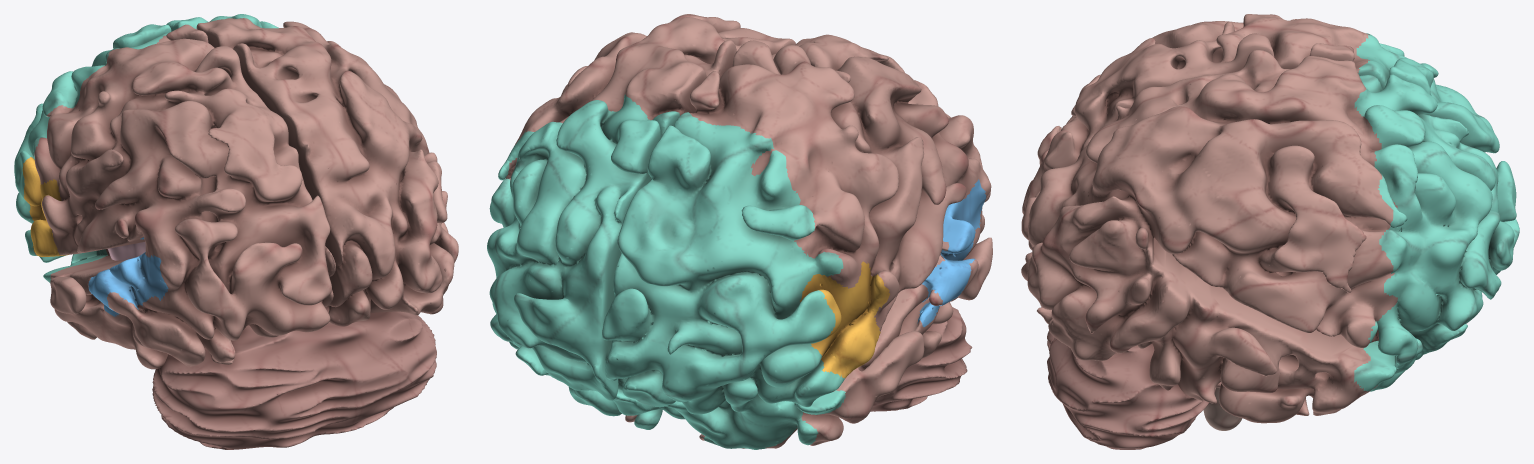
The model's file is cerebro.glb.
3 renders of one model, left to right at view 1: azimuth 30°, elevation 25°; view 2: azimuth 150°, elevation 25°; view 3: azimuth 270°, elevation 25°, orthographic. The views are drawn at different scales.
Parts seen in each view (by area): view 1: cortex, cerebelo, area_prefrontal, area_de_wernicke, area_de_broca, insula; view 2: area_prefrontal, cortex, area_de_broca, cerebelo, area_de_wernicke; view 3: cortex, area_prefrontal, cerebelo, tronco.
Part boxes in pixels (bbox=[...]): cortex: bbox=[34, 18, 458, 369]; cerebelo: bbox=[152, 306, 436, 449]; area_prefrontal: bbox=[14, 14, 278, 282]; area_de_wernicke: bbox=[88, 237, 168, 316]; area_de_broca: bbox=[22, 157, 68, 256]; insula: bbox=[108, 242, 145, 260]; area_prefrontal: bbox=[487, 94, 845, 449]; cortex: bbox=[505, 14, 992, 448]; area_de_broca: bbox=[800, 261, 889, 378]; cerebelo: bbox=[870, 307, 972, 411]; area_de_wernicke: bbox=[917, 179, 986, 326]; cortex: bbox=[1021, 14, 1397, 423]; area_prefrontal: bbox=[1354, 33, 1519, 391]; cerebelo: bbox=[1047, 331, 1216, 449]; tronco: bbox=[1203, 387, 1242, 430].
Bounding box in the file's own units: 1.45 × 1.49 × 1.76.
